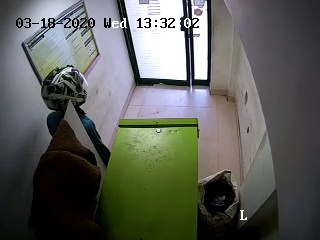helmet: (37, 64, 93, 110)
